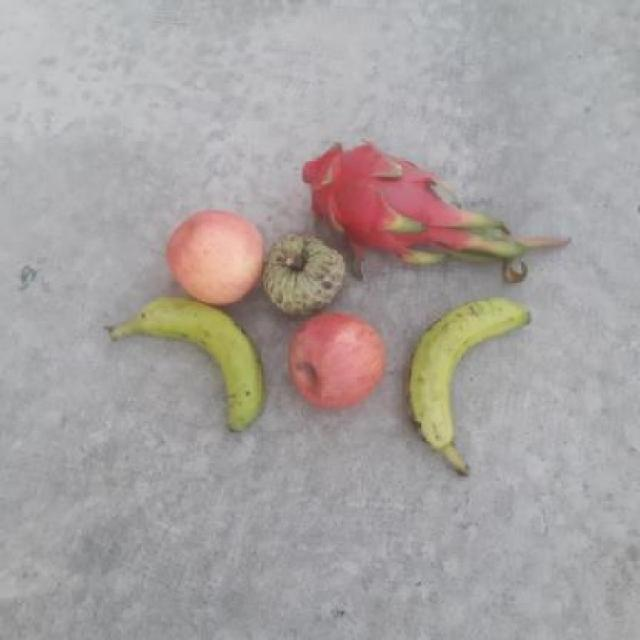apple: (161, 205, 267, 308), (290, 306, 388, 408)
banana: (99, 292, 267, 432), (405, 295, 534, 458)
dragon fruit: (299, 146, 450, 252)
sugar apple: (265, 224, 349, 318)
